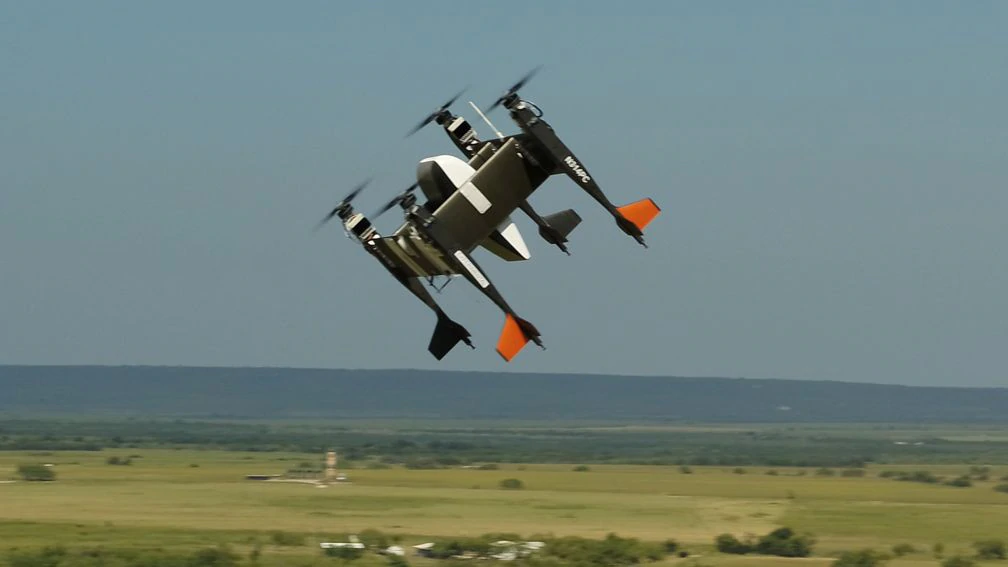drone: (303, 62, 666, 366)
